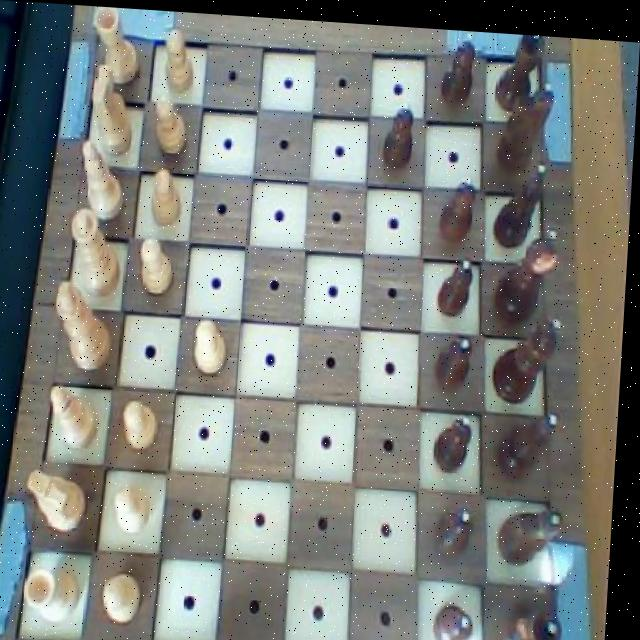bishop: (490, 151, 552, 247), (495, 398, 569, 478)
black-bishop: (492, 305, 567, 402)
black-king: (491, 74, 559, 174), (497, 494, 569, 569)
black-knight: (434, 31, 480, 105), (437, 165, 483, 239), (433, 404, 481, 470), (437, 247, 481, 314), (379, 99, 419, 172), (436, 324, 482, 386), (439, 497, 484, 556), (437, 589, 484, 640)
black-pawn: (495, 214, 565, 319)
black-queen: (489, 26, 551, 111), (506, 591, 574, 640)
black-rook: (76, 139, 134, 228), (48, 377, 109, 451)
white-bishop: (53, 278, 122, 378)
white-king: (26, 464, 100, 537), (85, 62, 140, 160)
white-knight: (149, 90, 196, 160), (158, 24, 204, 93), (136, 234, 182, 299), (123, 394, 170, 457), (147, 165, 190, 230), (107, 567, 154, 625), (194, 313, 235, 376), (116, 480, 161, 537)
white-pawn: (63, 204, 131, 302)
white-queen: (87, 5, 146, 91), (23, 559, 91, 624)
